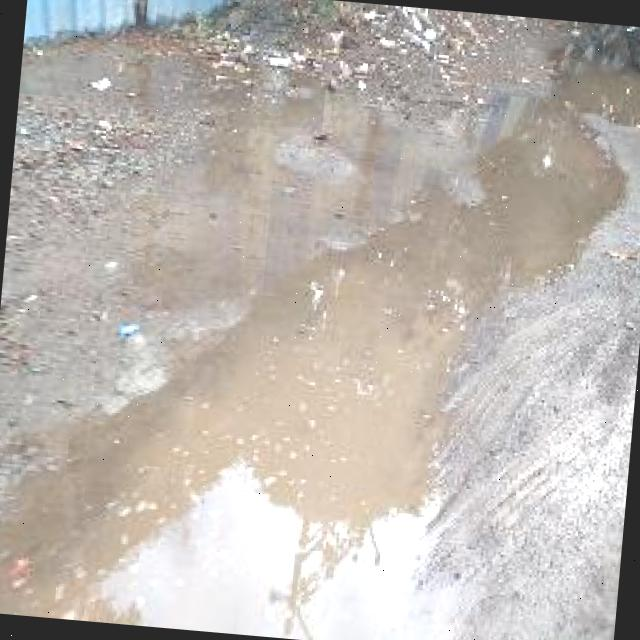stagnation: (16, 43, 587, 640)
